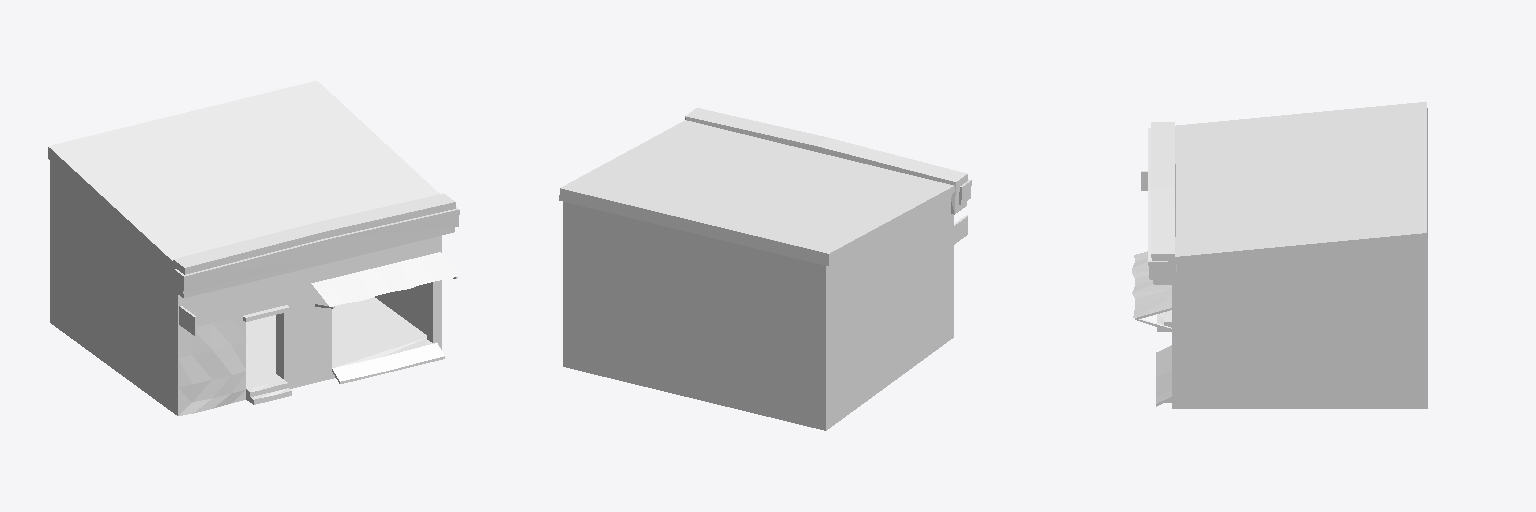
The model's file is BuildingF.obj.
3 renders of one model, left to right at view 1: azimuth 30°, elevation 25°; view 2: azimuth 150°, elevation 25°; view 3: azimuth 270°, elevation 25°, orthographic.
Visible parts, largest first — view 1: BuildingF; view 2: BuildingF; view 3: BuildingF.
Part boxes in pixels (x1,y1,x2,y2): BuildingF: (48,81,459,415); BuildingF: (559,108,971,430); BuildingF: (1132,102,1427,408).
Bounding box in the file's own units: 319 × 196 × 296.